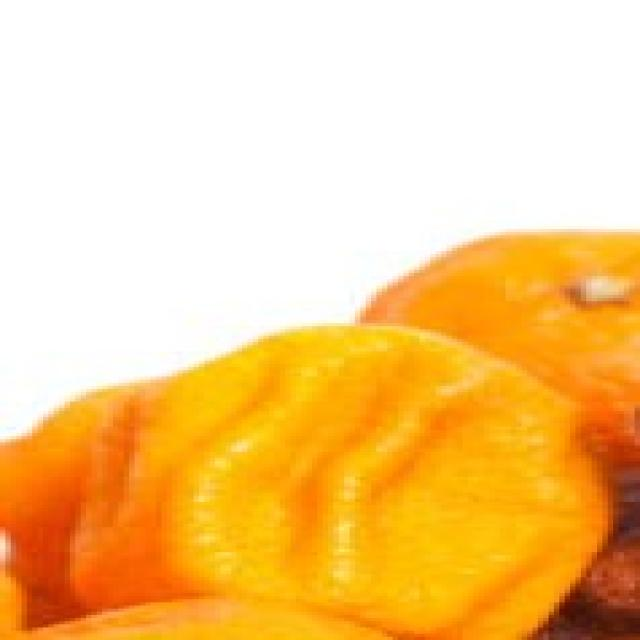overripe: (54, 314, 614, 638)
